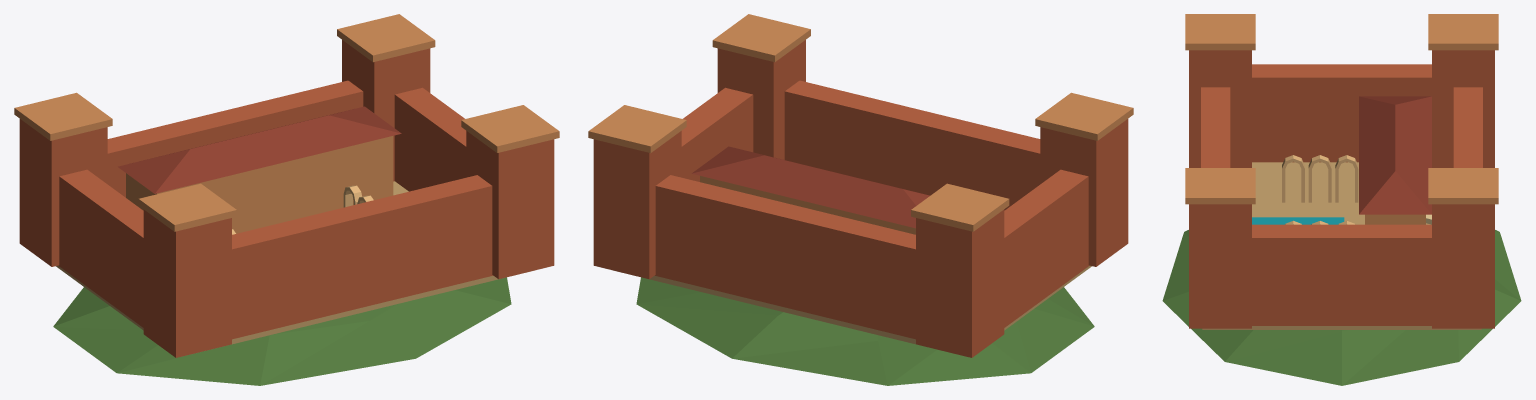
Rendered from alhambra.glb.
3 views of the same model, side by side, from view 1: azimuth 30°, elevation 25°; view 2: azimuth 150°, elevation 25°; view 3: azimuth 270°, elevation 25° (orthographic). The views are drawn at different scales.
Parts seen in each view (by area): view 1: body_B77B55, body_CD9B71, base_8B9071, roof_895E45, base_C2A27A; view 2: body_B77B55, base_8B9071, body_CD9B71, roof_895E45, base_C2A27A; view 3: body_B77B55, base_8B9071, body_CD9B71, roof_895E45, base_C2A27A, arcades_D5AC80, water_court_679C98.
Boxes of the visible parts, x1,y1,x2,y2 form: body_B77B55: [19, 40, 554, 357]; body_CD9B71: [14, 14, 559, 233]; base_8B9071: [53, 277, 511, 385]; roof_895E45: [118, 106, 401, 193]; base_C2A27A: [56, 181, 525, 350]; body_B77B55: [593, 40, 1128, 357]; base_8B9071: [636, 277, 1094, 385]; body_CD9B71: [588, 14, 1133, 234]; roof_895E45: [692, 146, 929, 228]; base_C2A27A: [622, 265, 1091, 350]; body_B77B55: [1189, 50, 1494, 328]; base_8B9071: [1162, 230, 1521, 385]; body_CD9B71: [1185, 14, 1498, 224]; roof_895E45: [1359, 96, 1431, 214]; base_C2A27A: [1202, 162, 1481, 329]; arcades_D5AC80: [1282, 155, 1358, 224]; water_court_679C98: [1252, 217, 1344, 224].
Size of the model in its own units: 1 by 0.415 by 0.7616.
